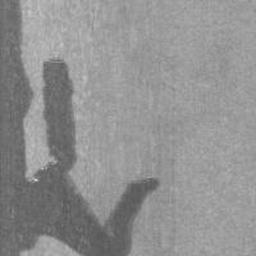Water spot: (0, 0, 163, 256)
